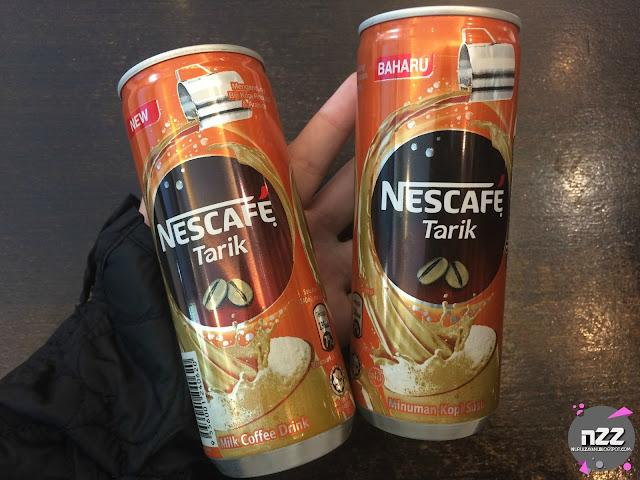metal: (112, 46, 356, 470), (349, 8, 521, 444)
